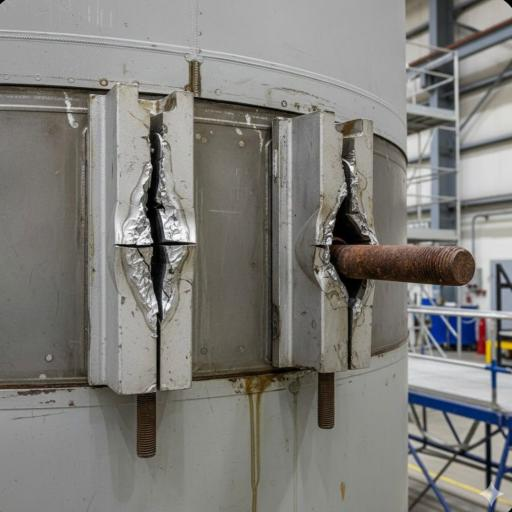fastening deformation: (96, 75, 183, 317), (303, 141, 392, 322)
